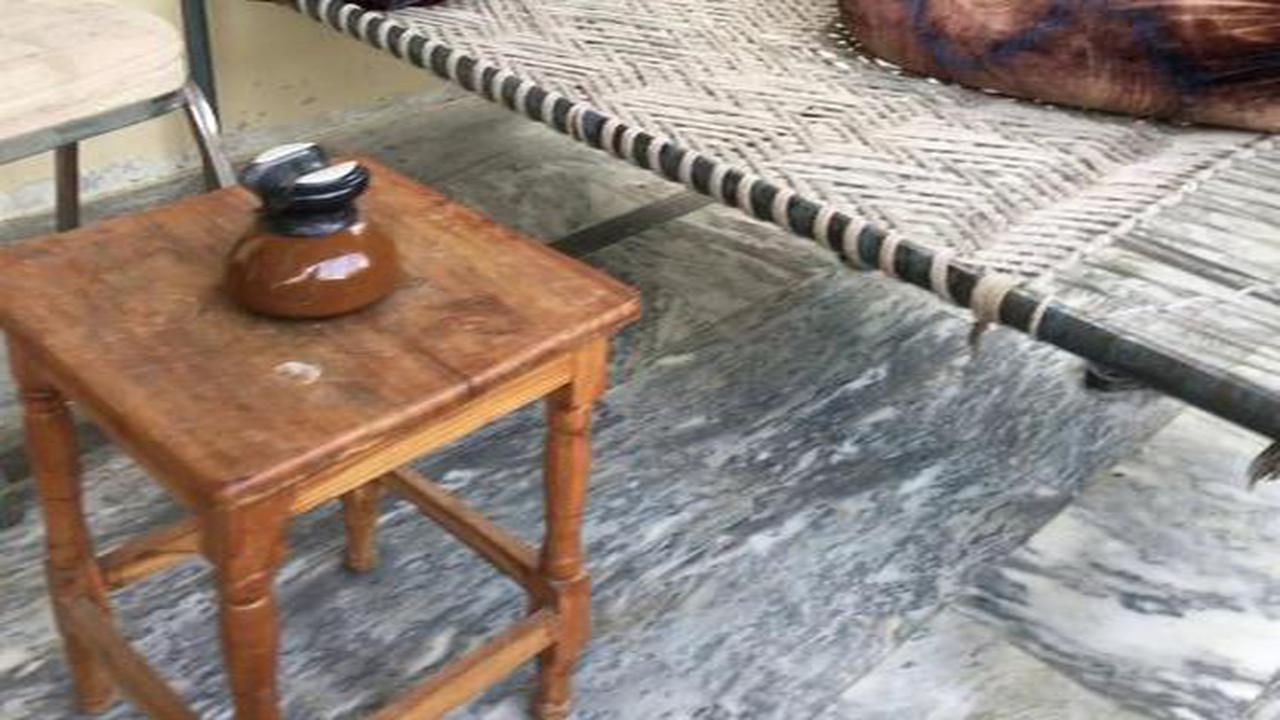insulator_pin: (210, 129, 413, 328)
